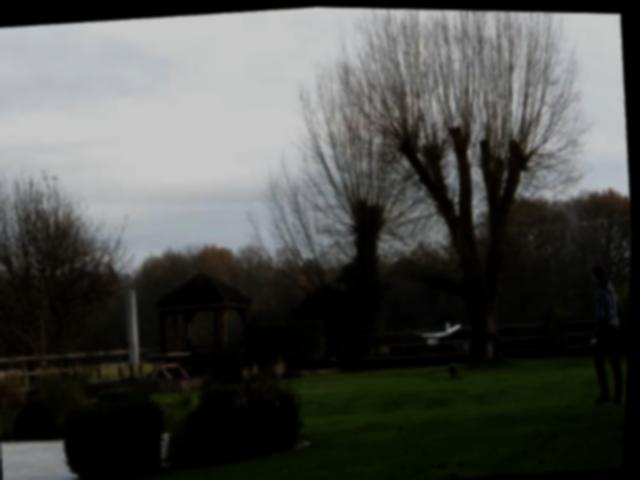uav: (401, 309, 466, 351)
